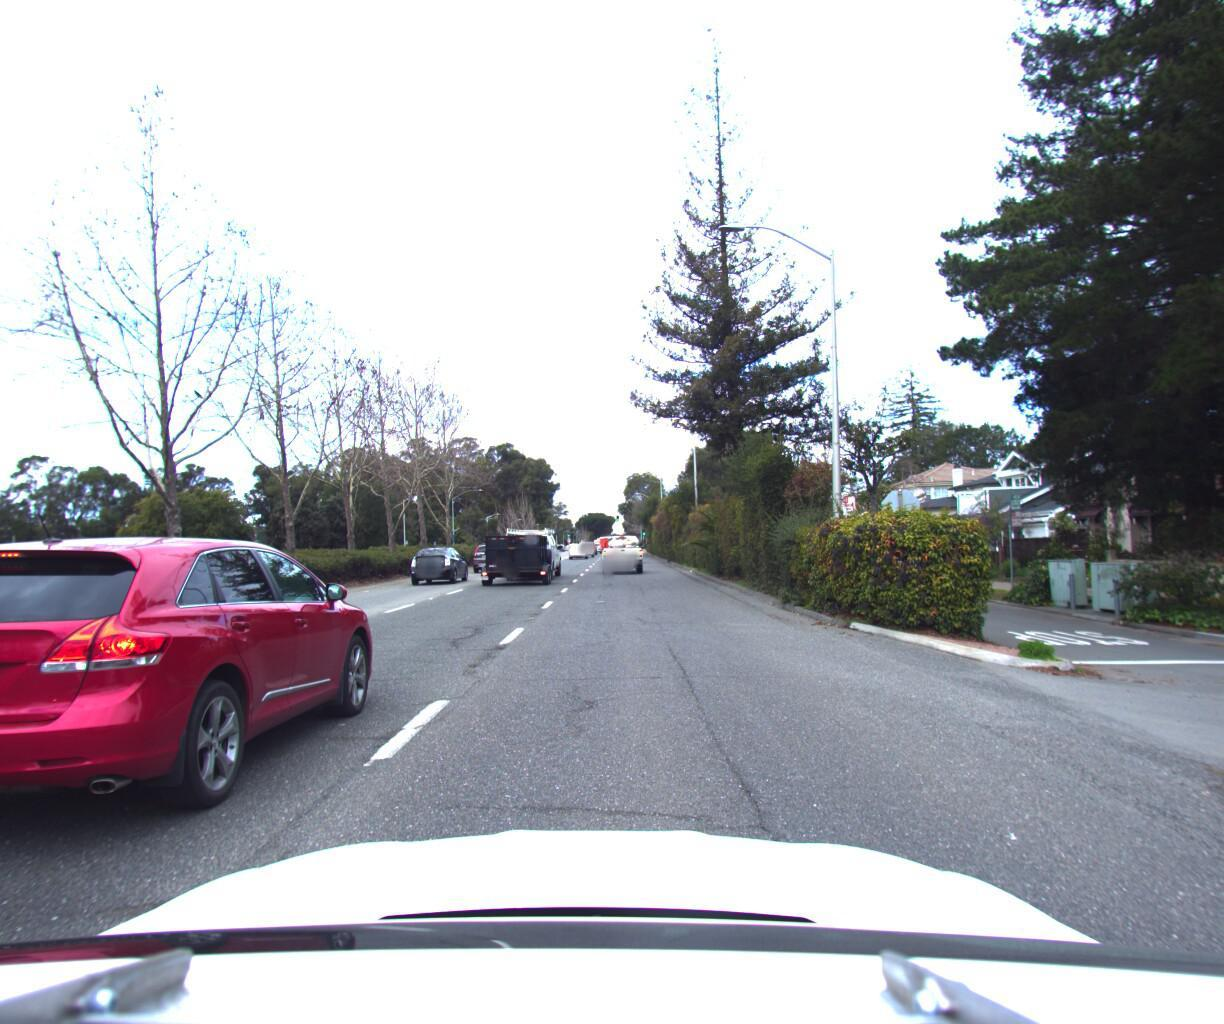car: (0, 526, 383, 901), (476, 513, 568, 582), (409, 538, 471, 579), (599, 523, 647, 569), (470, 534, 510, 565), (568, 539, 590, 556), (580, 534, 600, 550)
